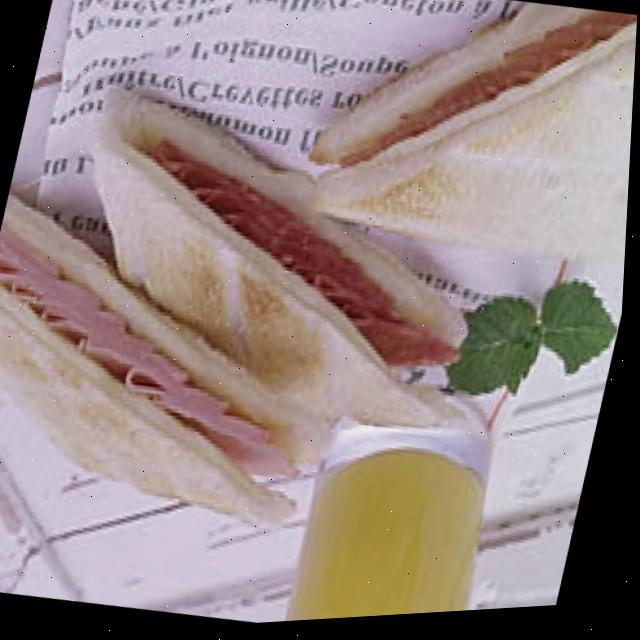三明治: (0, 60, 533, 575)
